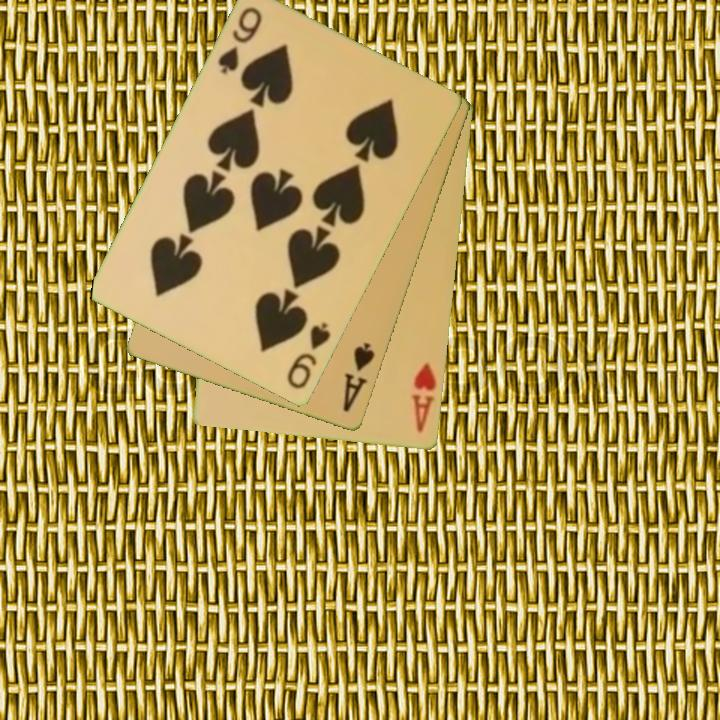9s: (283, 319, 334, 393), (214, 3, 265, 77)
Ah: (408, 359, 439, 436)
As: (339, 339, 378, 416)
